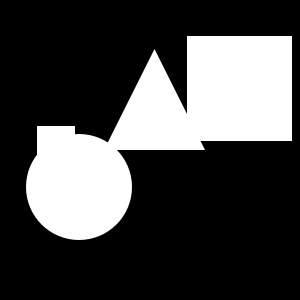circle: (187, 36, 292, 141), (37, 126, 75, 164)
rectangle: (26, 134, 132, 240)
triangle: (104, 49, 205, 150)
